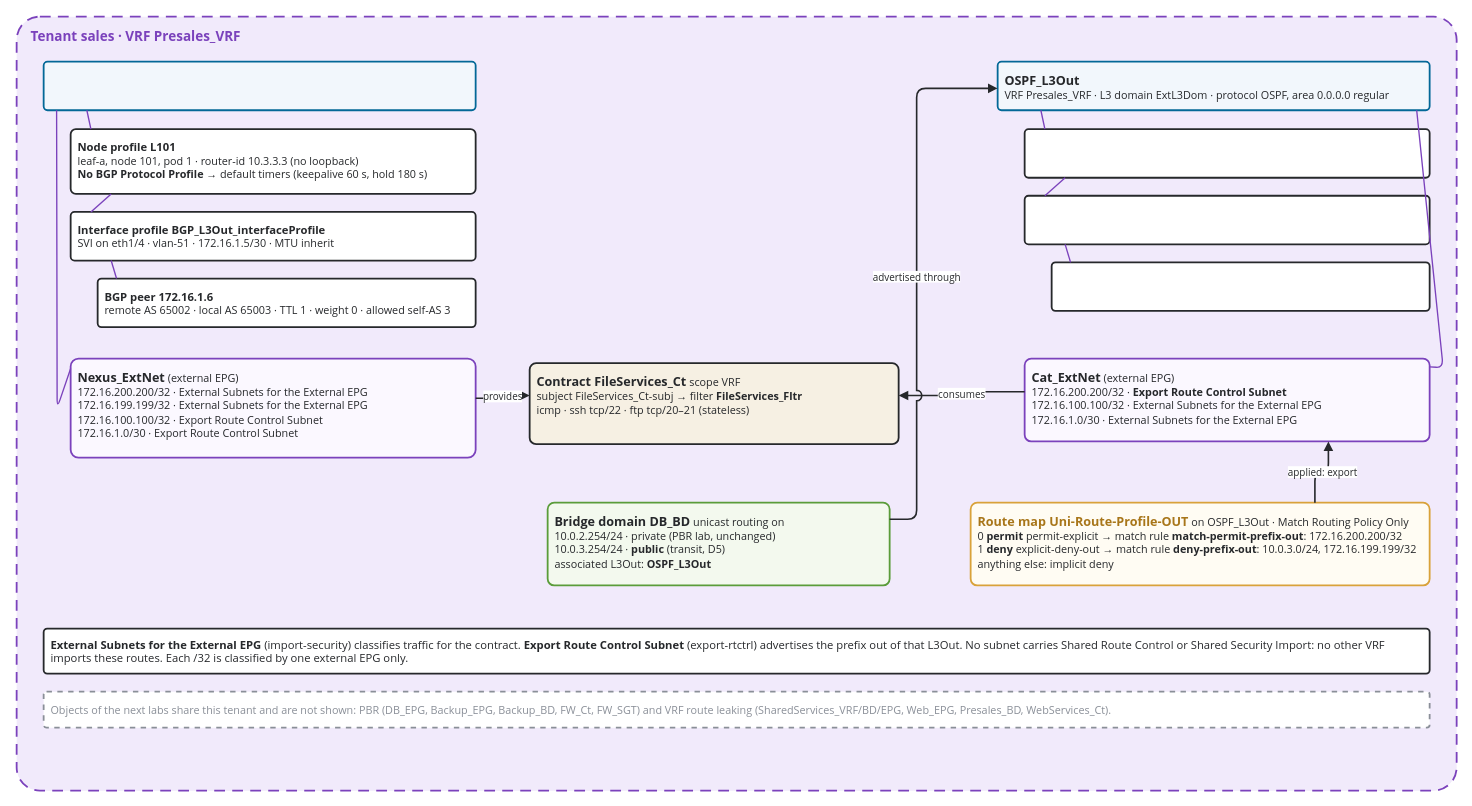
Image size: 1472x806. Some labels were removed from this diagram. Each missing label, with the centre of its shape:
BGP_L3Out VRF Presales_VRF · L3 domain ExtL3Dom · protocol BGP: (x=259, y=85)
Interface profile OSPF_IP SVI on eth1/1 · vlan-20 · 172.16.1.1/30 · MTU inherit: (x=1226, y=219)
Node profile OSPF_NP leaf-b, node 102, pod 1 · router-id 10.1.1.1 (no loopback): (x=1226, y=153)
OSPF interface policy OSPF_bcast_pol (broadcast) · area 0.0.0.0: (x=1240, y=286)
